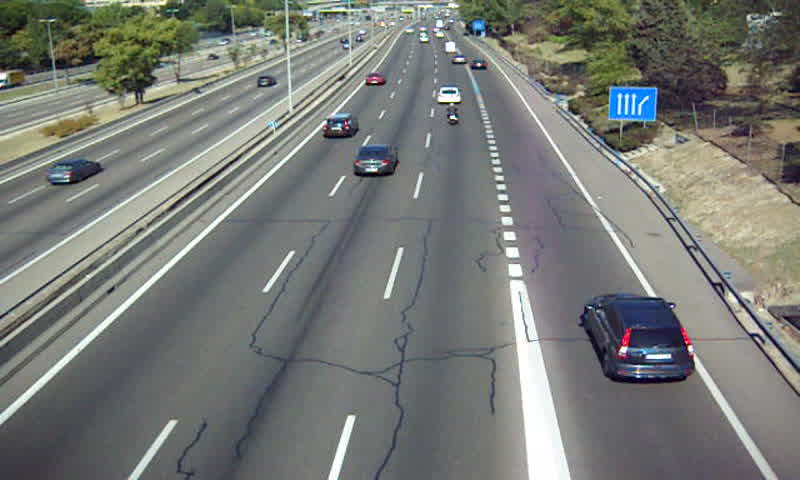car: (584, 296, 695, 381), (353, 145, 398, 176), (321, 114, 356, 137), (436, 86, 462, 105), (364, 73, 384, 88)
motorcycle: (444, 102, 461, 126)
